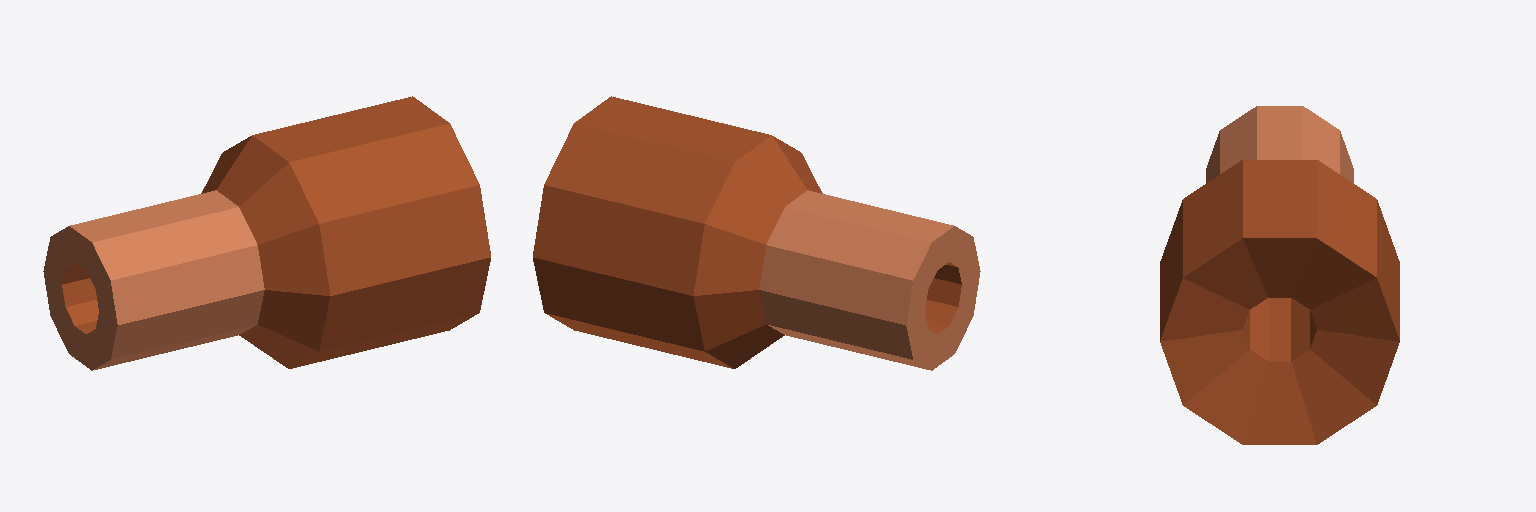
3 views of the same model, side by side, from view 1: azimuth 30°, elevation 25°; view 2: azimuth 150°, elevation 25°; view 3: azimuth 270°, elevation 25° (orthographic).
Parts seen in each view (by area): view 1: polySurface4; view 2: polySurface4; view 3: polySurface4.
Part boxes in pixels (x1,y1,x2,y2): polySurface4: (43,96,490,370); polySurface4: (533,96,980,370); polySurface4: (1160,106,1399,444).
Bounding box in the file's own units: 0.9476 × 0.5345 × 0.5613.
Materials: 1 (1 with a texture image).